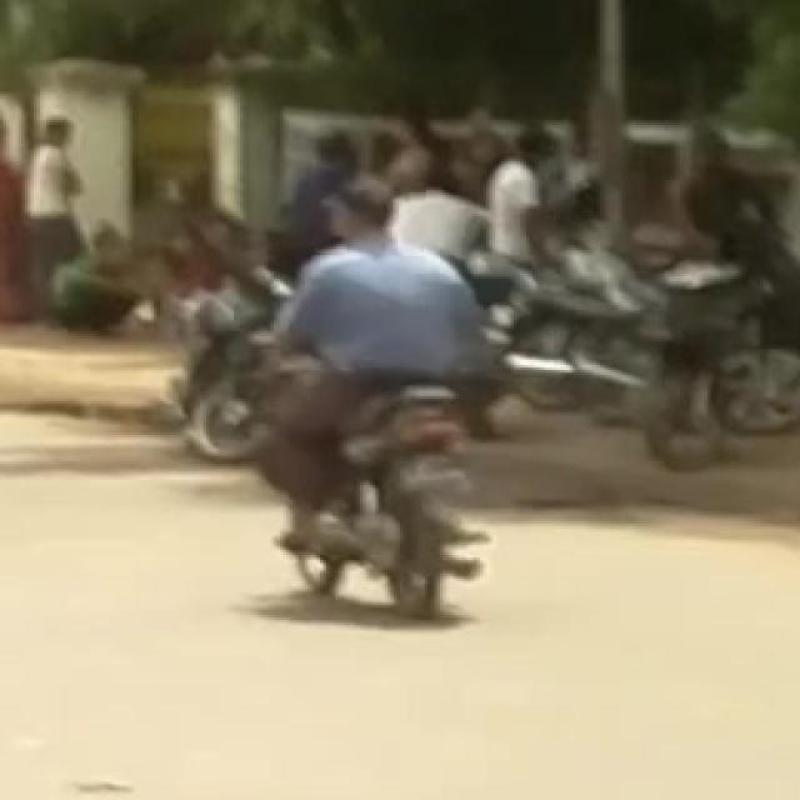nohelmet: (298, 138, 427, 255)
